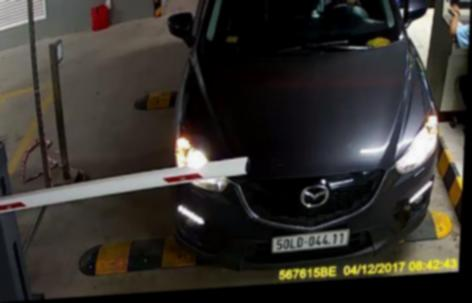License_Plate: (270, 227, 352, 254)
